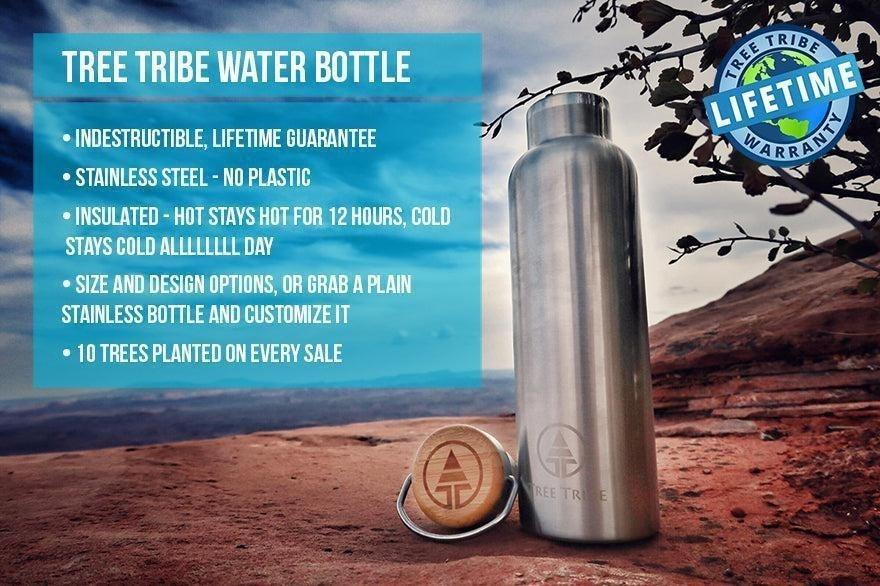gym bottle: (505, 88, 660, 550)
